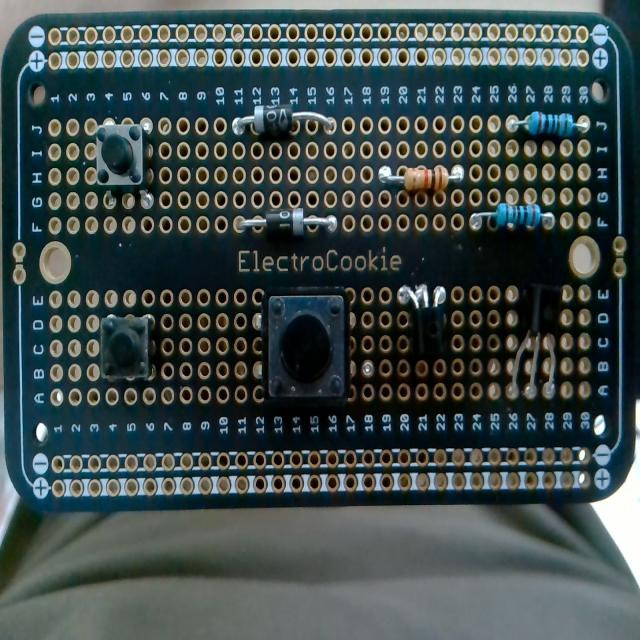diode: (232, 103, 338, 137), (235, 208, 338, 237)
resistor: (469, 202, 556, 232), (378, 165, 461, 192), (508, 111, 588, 137)
switch: (262, 290, 350, 402), (99, 313, 154, 382), (95, 122, 147, 188)
transistor: (513, 277, 565, 398), (396, 278, 456, 369)
